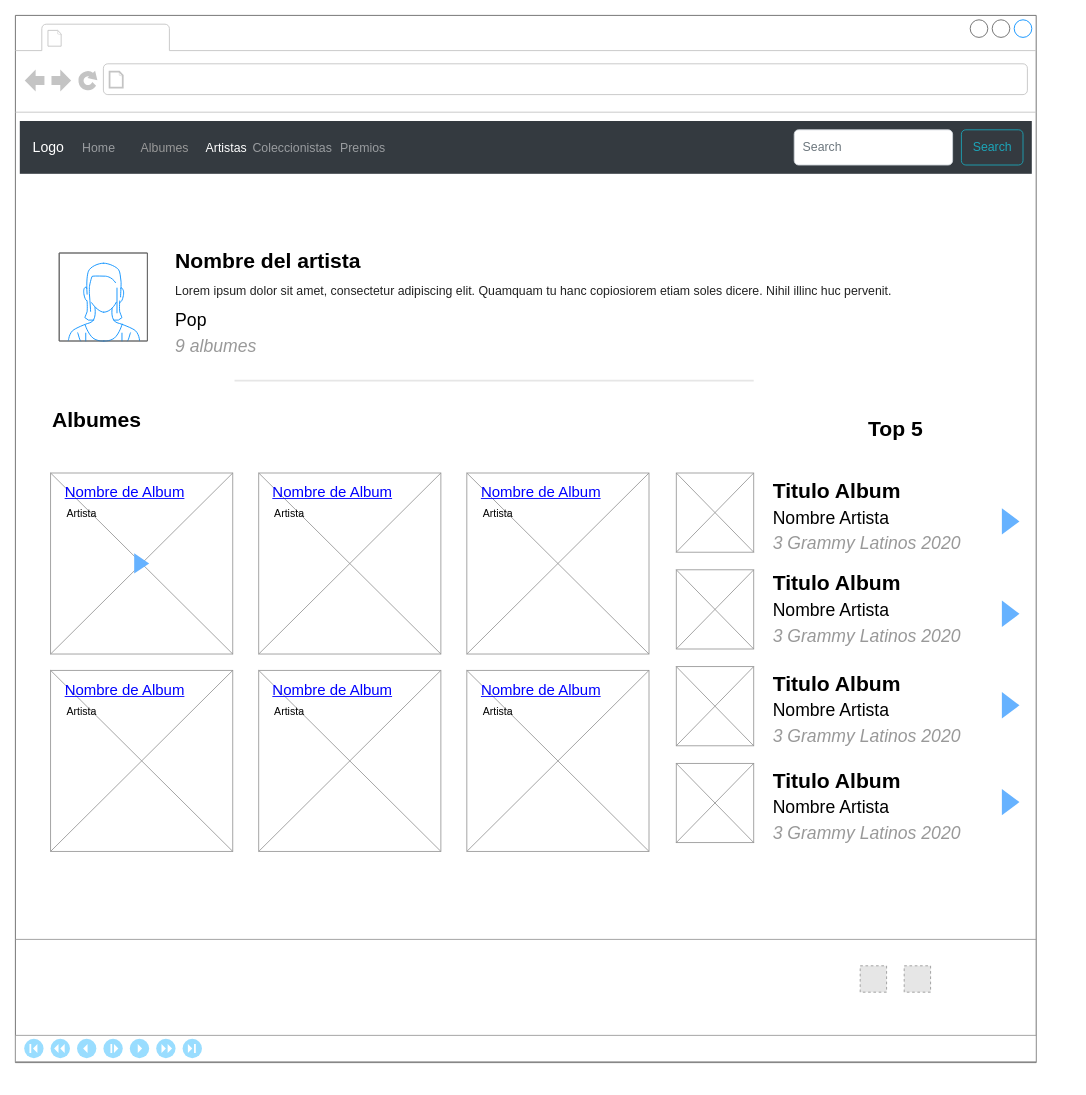
Some shapes in this 1086 by 1095 pixel diagram are drawn without their labels. Grey dashed boxes stand in for pictures. The centre of each missing label's shape, as x and y in pixels:
"https://www.example.com" goes at (x=239, y=79).
"Page 1" goes at (x=116, y=37).
